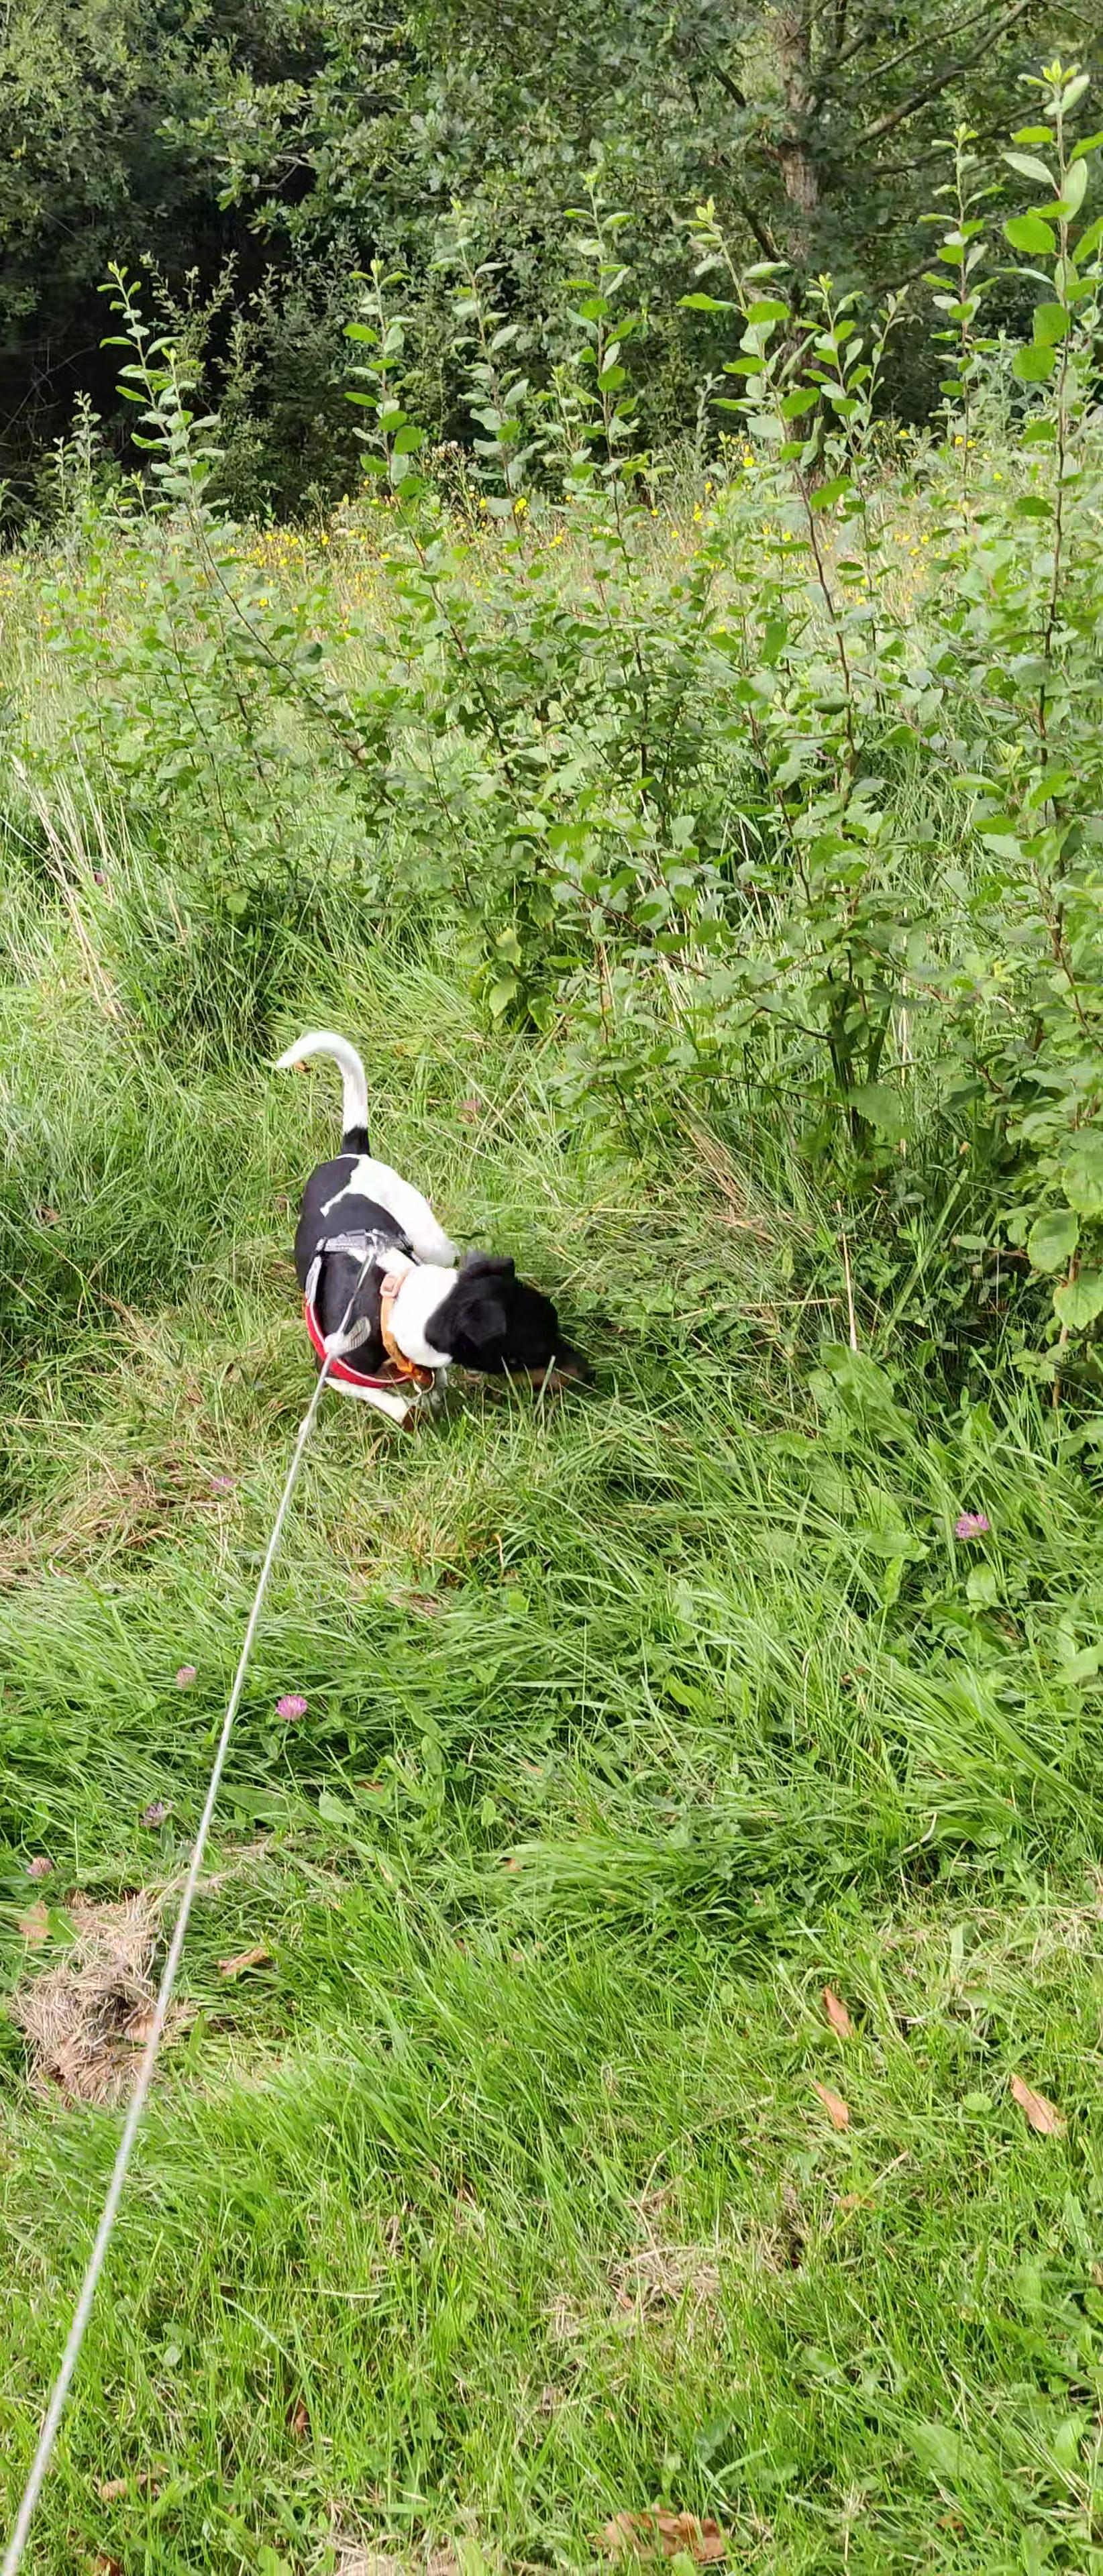Dog: (248, 1007, 623, 1444)
